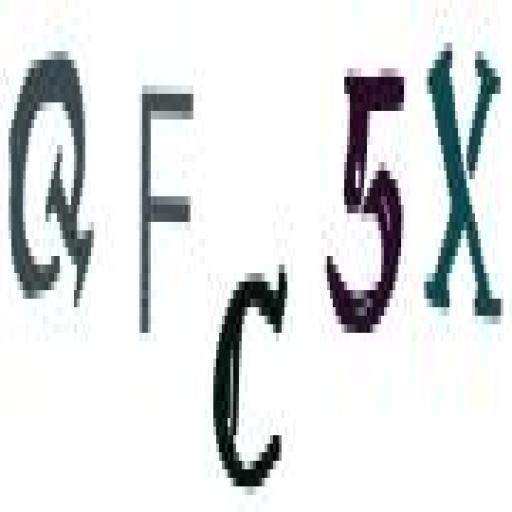5: (326, 53, 408, 355)
F: (136, 76, 196, 345)
Q: (3, 38, 98, 322)
X: (425, 35, 503, 347)
c: (212, 258, 294, 500)
